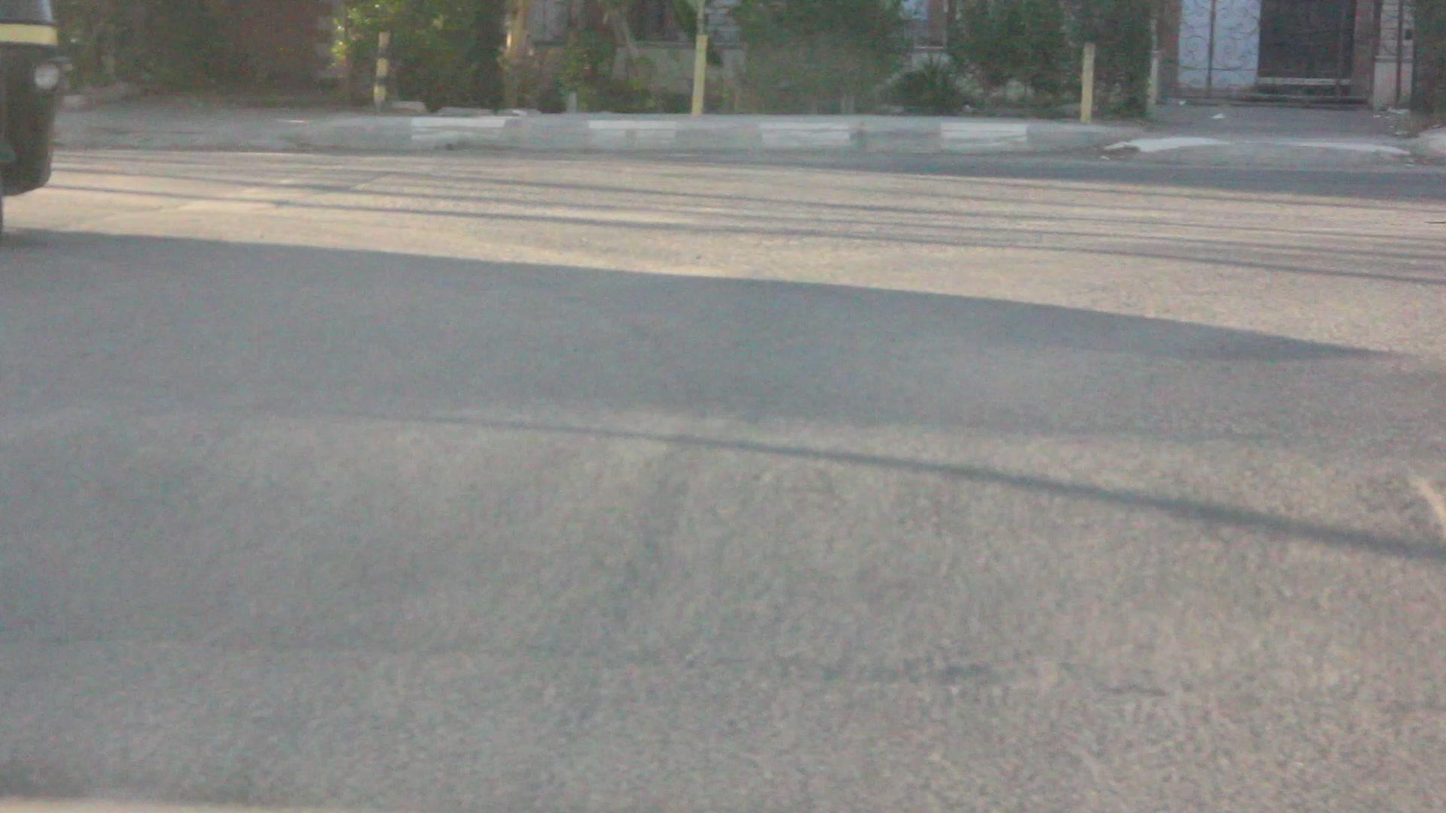Bump: (0, 401, 1446, 736)
